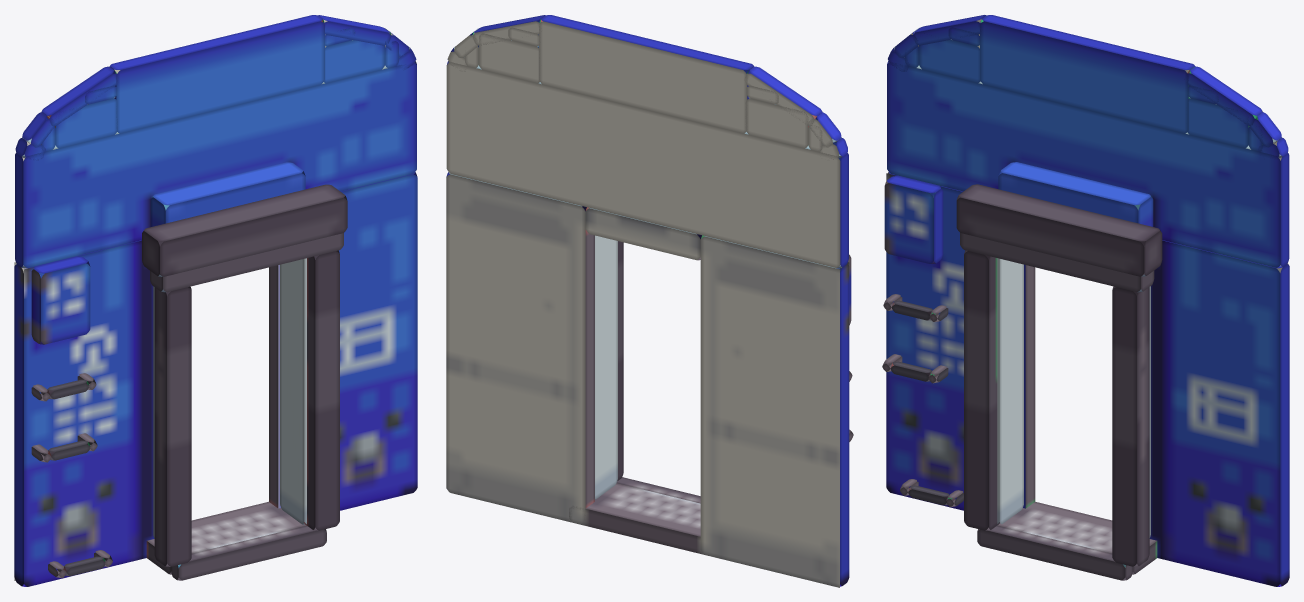
The model's file is end_face_original_25k_1.obj.
3 renders of one model, left to right at view 1: azimuth 30°, elevation 25°; view 2: azimuth 150°, elevation 25°; view 3: azimuth 330°, elevation 25°, orthographic.
Parts seen in each view (by area): view 1: cube; view 2: cube; view 3: cube.
Boxes of the visible parts, left/top/right/bottom form: cube: left=14, top=15, right=417, bottom=586; cube: left=446, top=15, right=853, bottom=587; cube: left=882, top=15, right=1289, bottom=586.
Size of the model in its own units: 3 by 3.58 by 0.5594.
